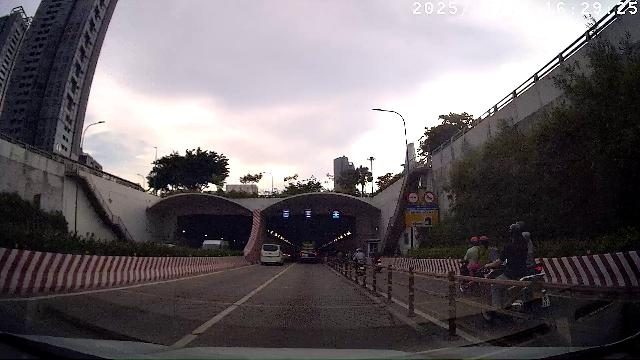128-cam-su-dung-coi: (423, 192, 436, 205)
